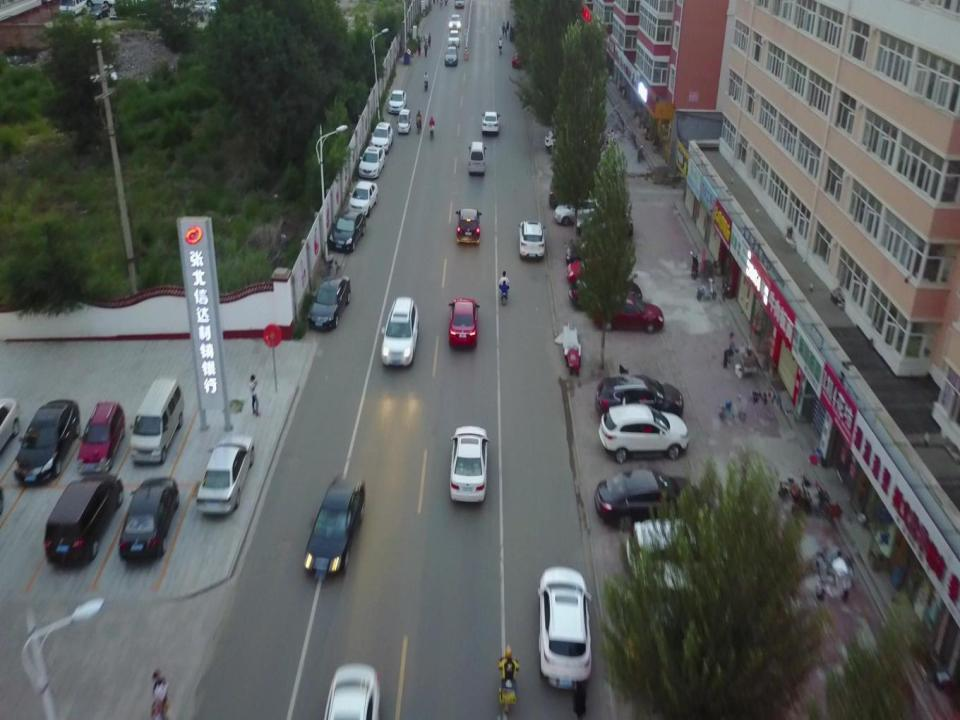car: (594, 467, 708, 528), (537, 566, 592, 690), (302, 477, 366, 580), (14, 398, 80, 483), (598, 403, 689, 462), (626, 518, 716, 575), (595, 364, 684, 421), (118, 477, 178, 560), (196, 434, 255, 517), (77, 401, 126, 474), (591, 290, 664, 334), (323, 663, 379, 720), (449, 424, 488, 505), (380, 296, 419, 367), (568, 273, 644, 308), (307, 273, 351, 330), (565, 256, 628, 288), (575, 208, 633, 241), (327, 210, 366, 253), (448, 296, 480, 348), (548, 179, 600, 209), (554, 197, 606, 226), (544, 127, 596, 154), (346, 180, 378, 216), (518, 219, 546, 259), (455, 207, 482, 245), (358, 146, 385, 179), (369, 121, 393, 152), (388, 88, 406, 115), (481, 110, 500, 134), (88, 3, 110, 20), (444, 46, 458, 66), (512, 48, 526, 68), (194, 1, 210, 15), (448, 14, 461, 30), (448, 29, 460, 46), (208, 1, 220, 16), (454, 0, 465, 9)
van: (44, 472, 123, 566), (129, 376, 184, 466), (468, 140, 486, 176), (58, 0, 88, 20), (397, 108, 411, 135)
